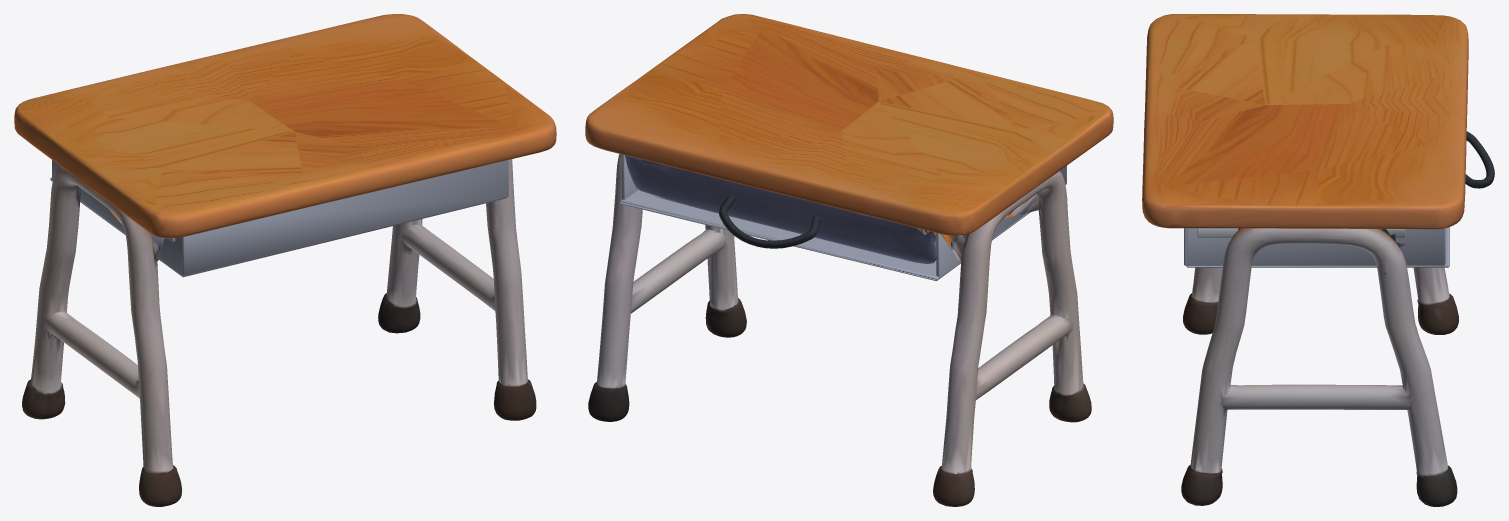
File: desk-v2.glb
The picture shows the model from 3 angles, left to right: view 1: azimuth 30°, elevation 25°; view 2: azimuth 150°, elevation 25°; view 3: azimuth 270°, elevation 25°; orthographic projection. The views are drawn at different scales.
Visible parts, largest first — view 1: DeskBody, DeskDrawer; view 2: DeskBody, DeskDrawer; view 3: DeskBody, DeskDrawer.
Boxes of the visible parts, x1,y1,x2,y2 form: DeskBody: (14, 14, 556, 506); DeskDrawer: (50, 160, 508, 277); DeskBody: (585, 14, 1113, 506); DeskDrawer: (620, 154, 1066, 280); DeskBody: (1142, 14, 1468, 506); DeskDrawer: (1184, 131, 1494, 267).
Bounding box in the file's own units: 1.2 × 0.875 × 0.9166.
4 materials, 1 textured.
